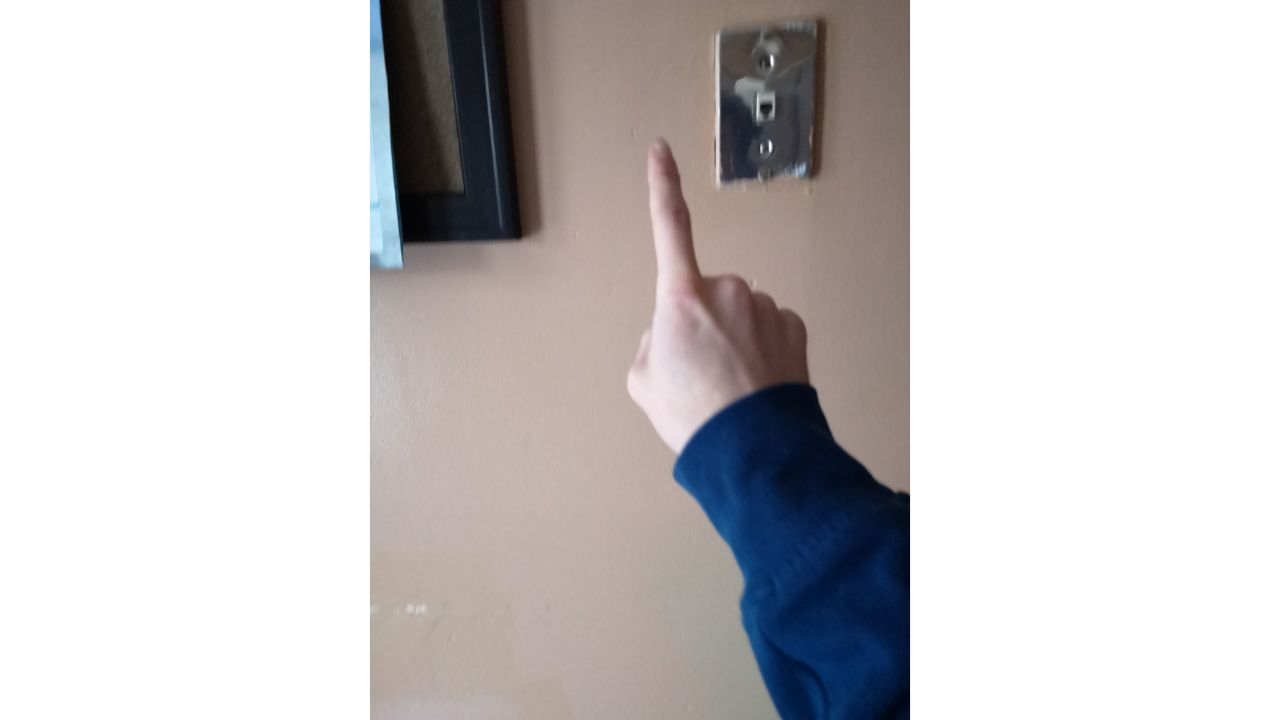finger: (630, 132, 821, 455)
